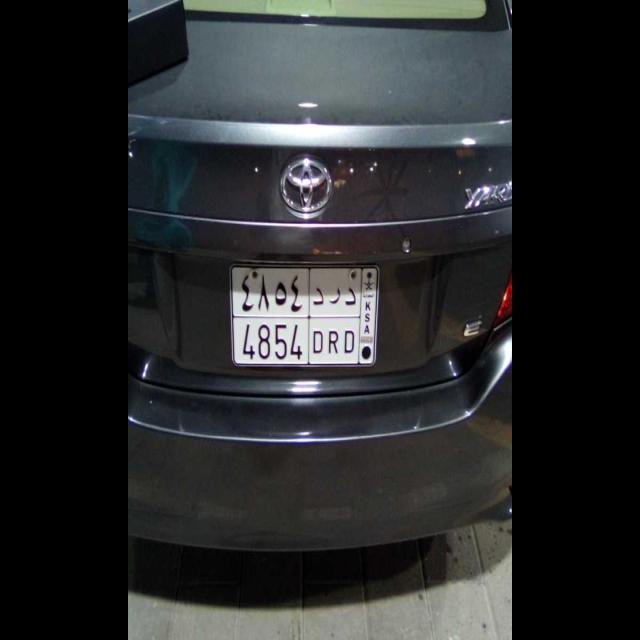license_plate: (232, 317, 360, 371)
